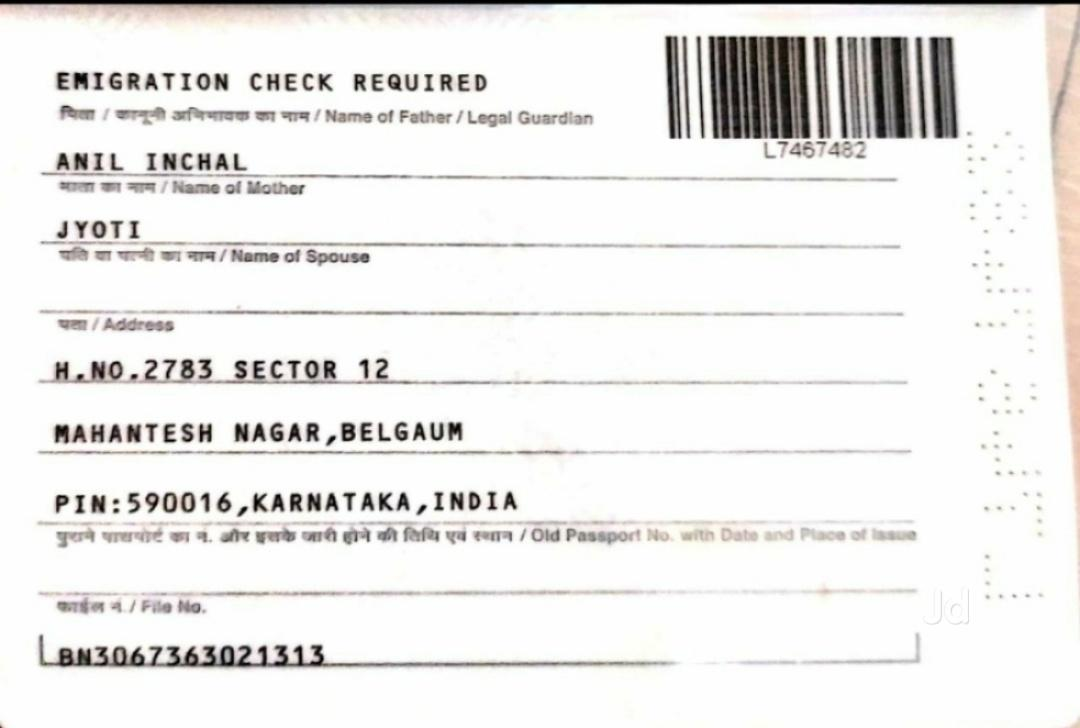File_no: (50, 639, 331, 675)
address: (42, 349, 592, 523)
father_name: (44, 140, 277, 176)
mother_name: (47, 207, 158, 254)
passport_no: (752, 131, 885, 166)
